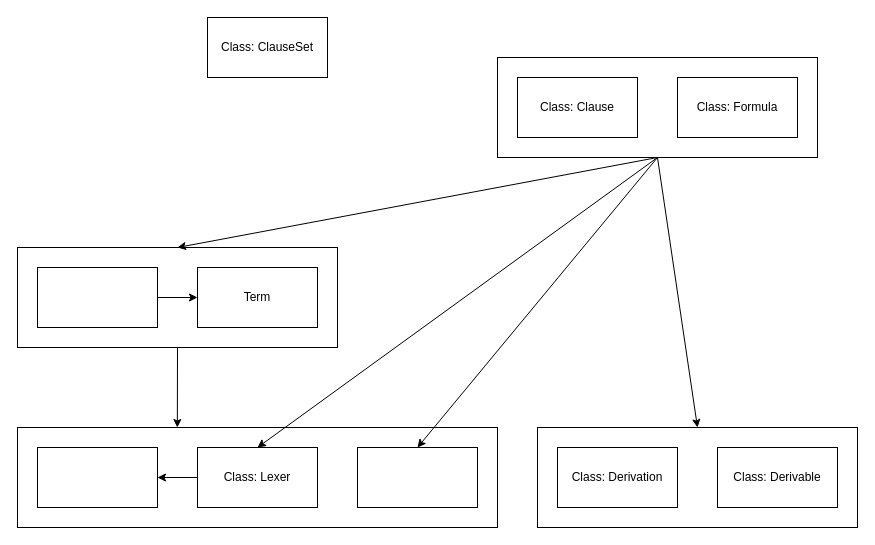
Some shapes in this 875 by 545 pixel diagram are drawn without their labels. The centre of each missing label's shape, as x and y in pixels:
"Class: Literal" goes at (x=97, y=297).
"Class: Signature" goes at (x=417, y=477).
"Class: Token" goes at (x=97, y=477).
